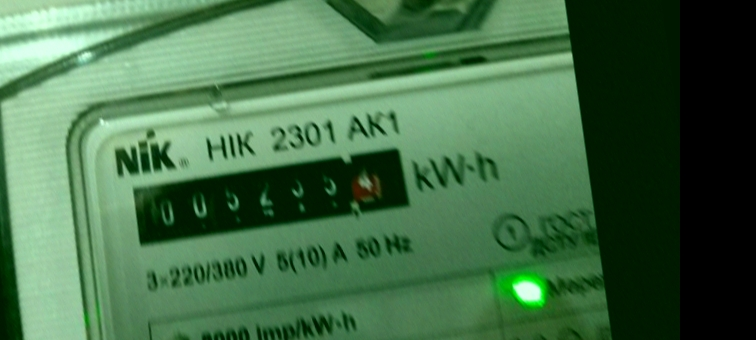0: (186, 186, 210, 222), (155, 195, 177, 228)
2: (251, 174, 277, 211)
3: (282, 167, 311, 203)
4: (351, 158, 378, 197)
5: (316, 162, 343, 201), (219, 180, 243, 215)
screen: (112, 132, 423, 260)
